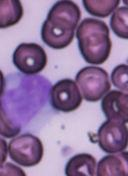M: (1, 70, 54, 128)
